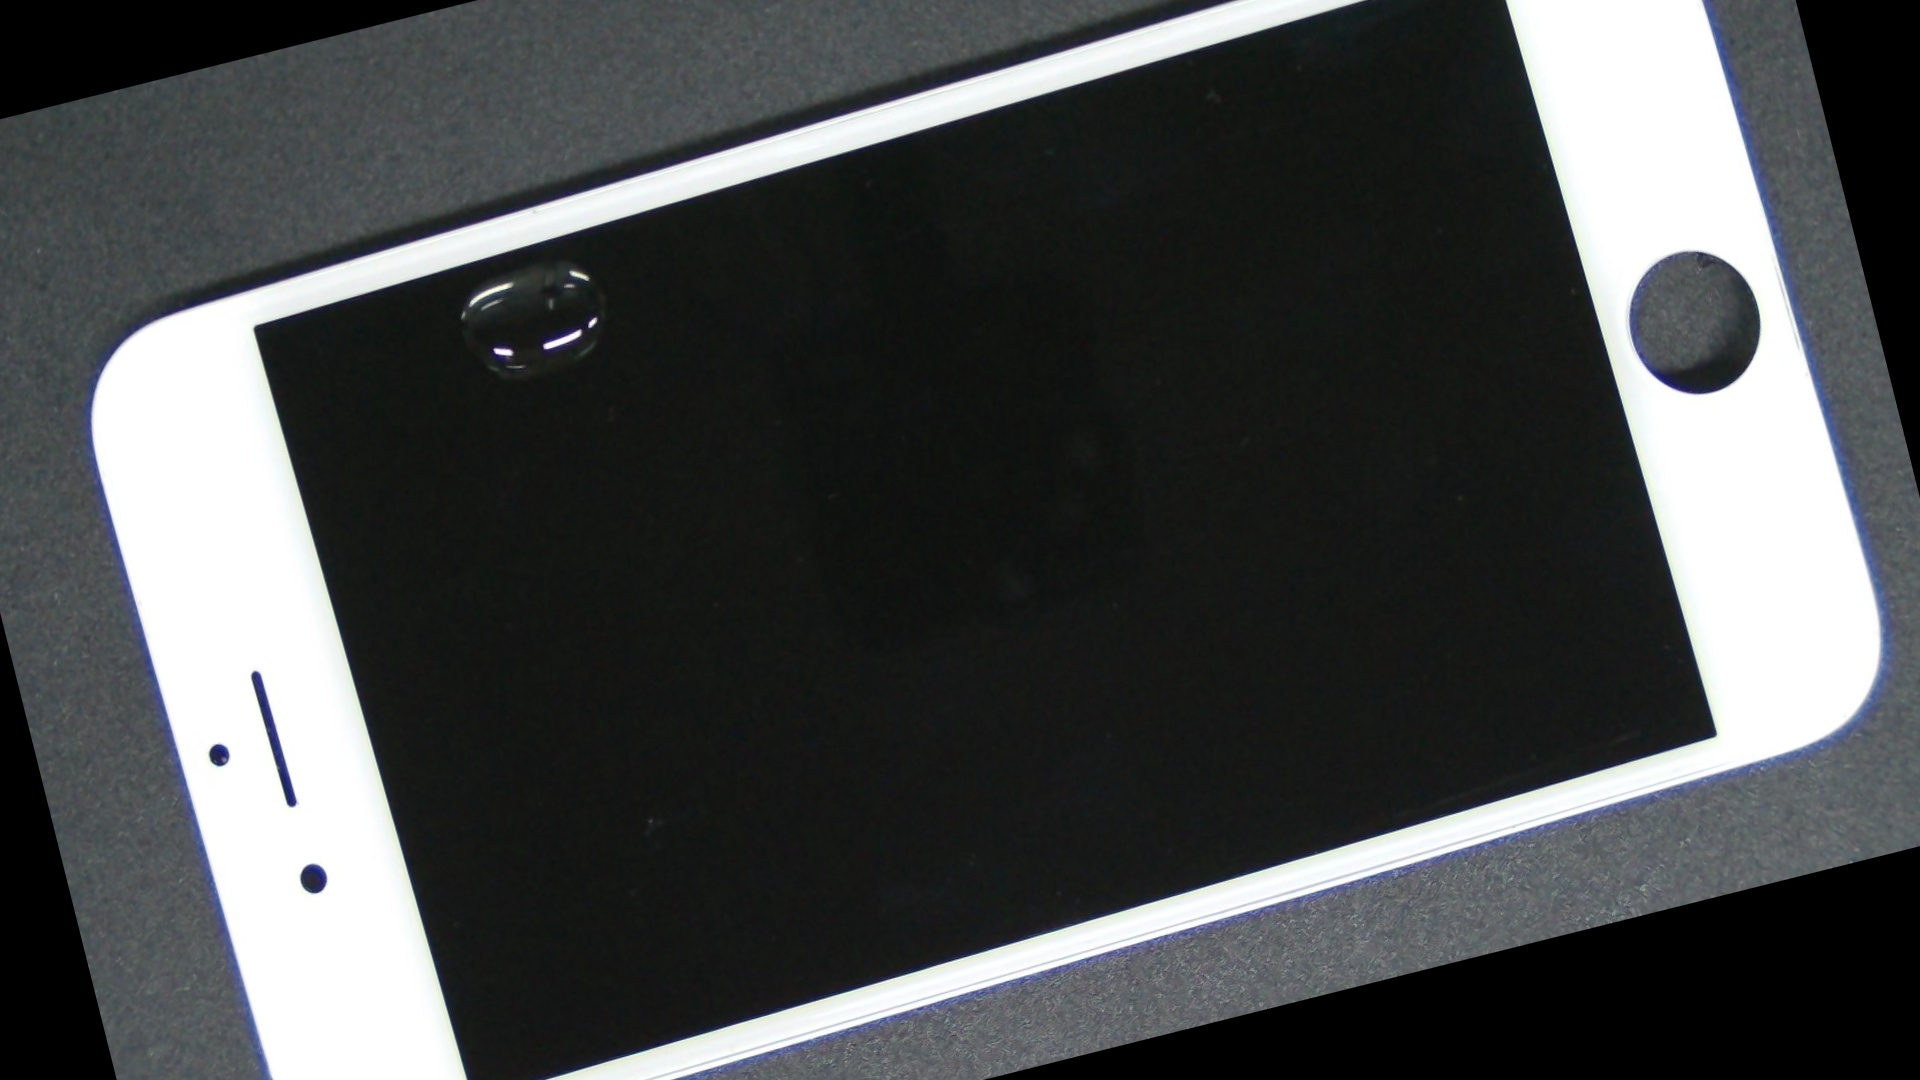oil: (212, 58, 866, 468)
